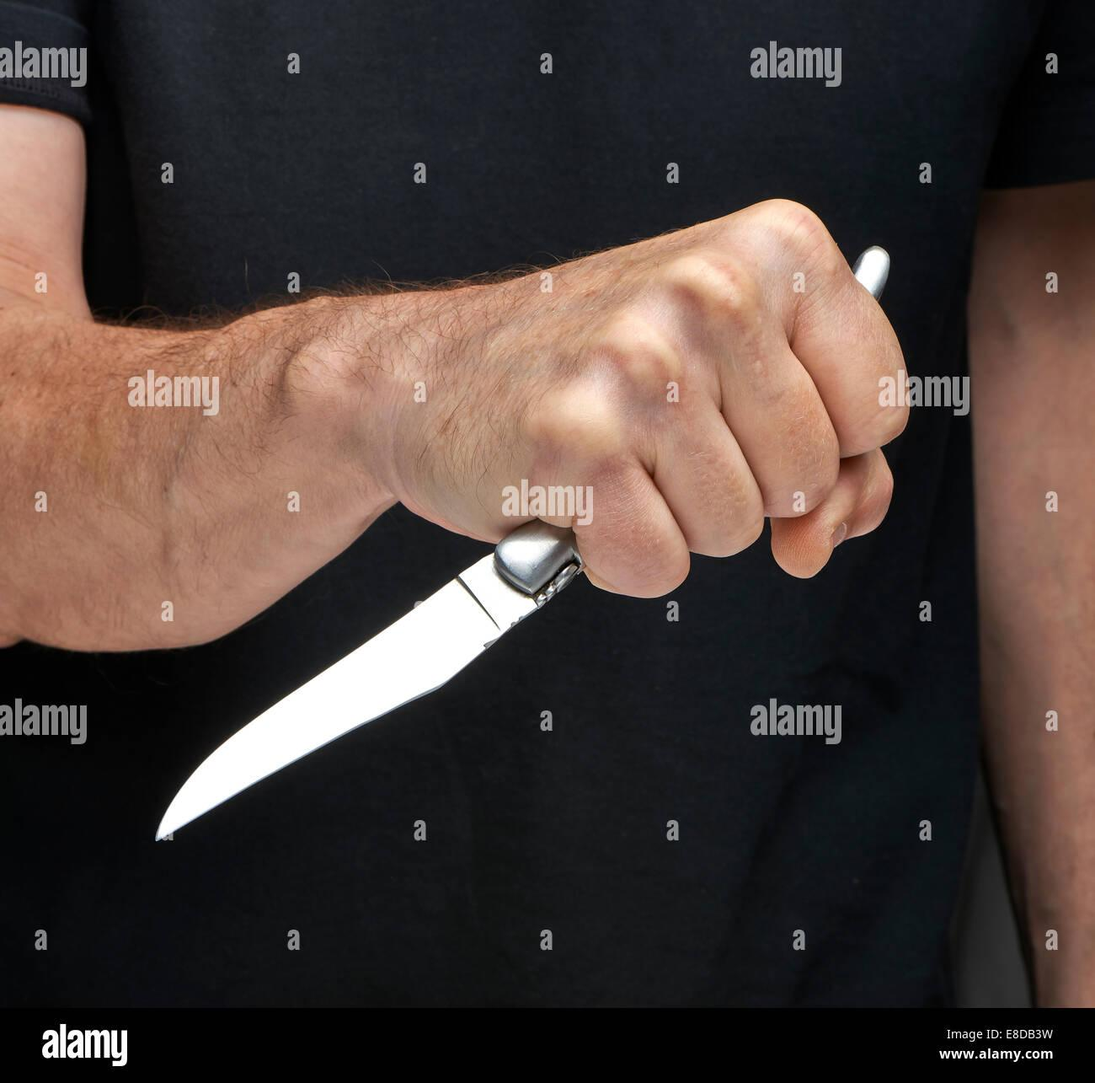Knife: (0, 0, 1095, 1009), (444, 202, 910, 589), (157, 544, 577, 843)
